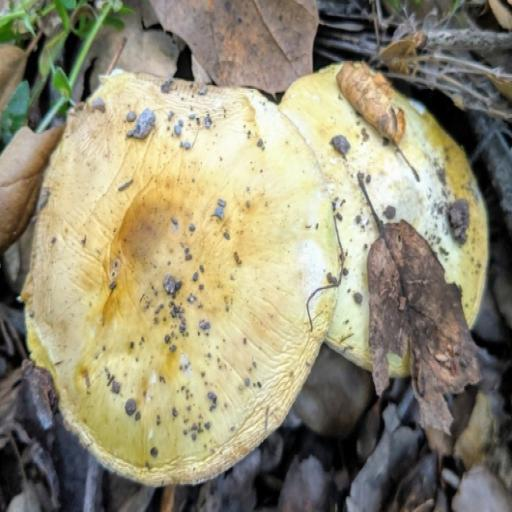mushroom: (38, 70, 338, 490), (277, 66, 492, 390)
